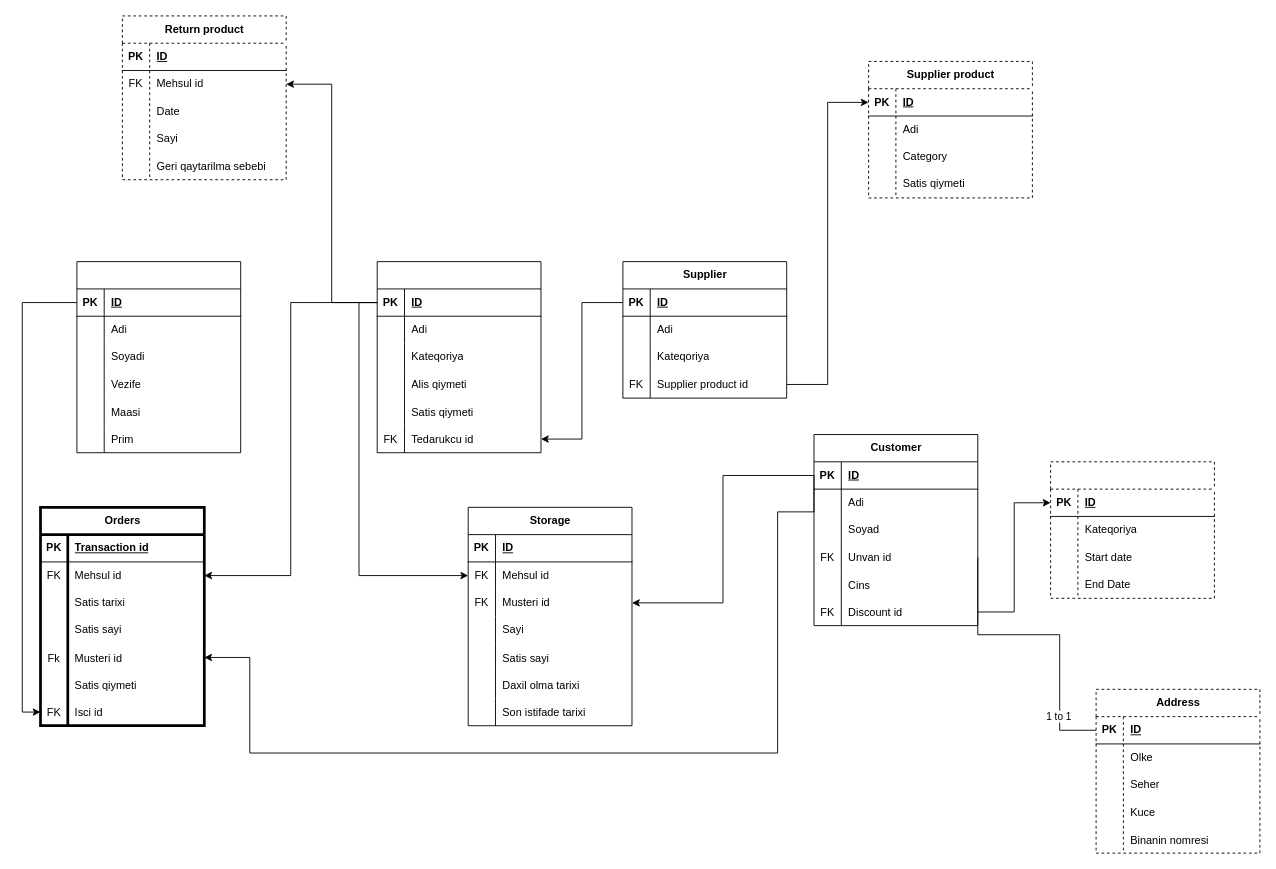
Image size: 1276x869. Some labels were removed from this diagram. Each missing label, with the box of its shape:
Customer discount: (1050, 461, 1214, 598)
Employees: (76, 261, 241, 453)
Product: (376, 261, 541, 453)
